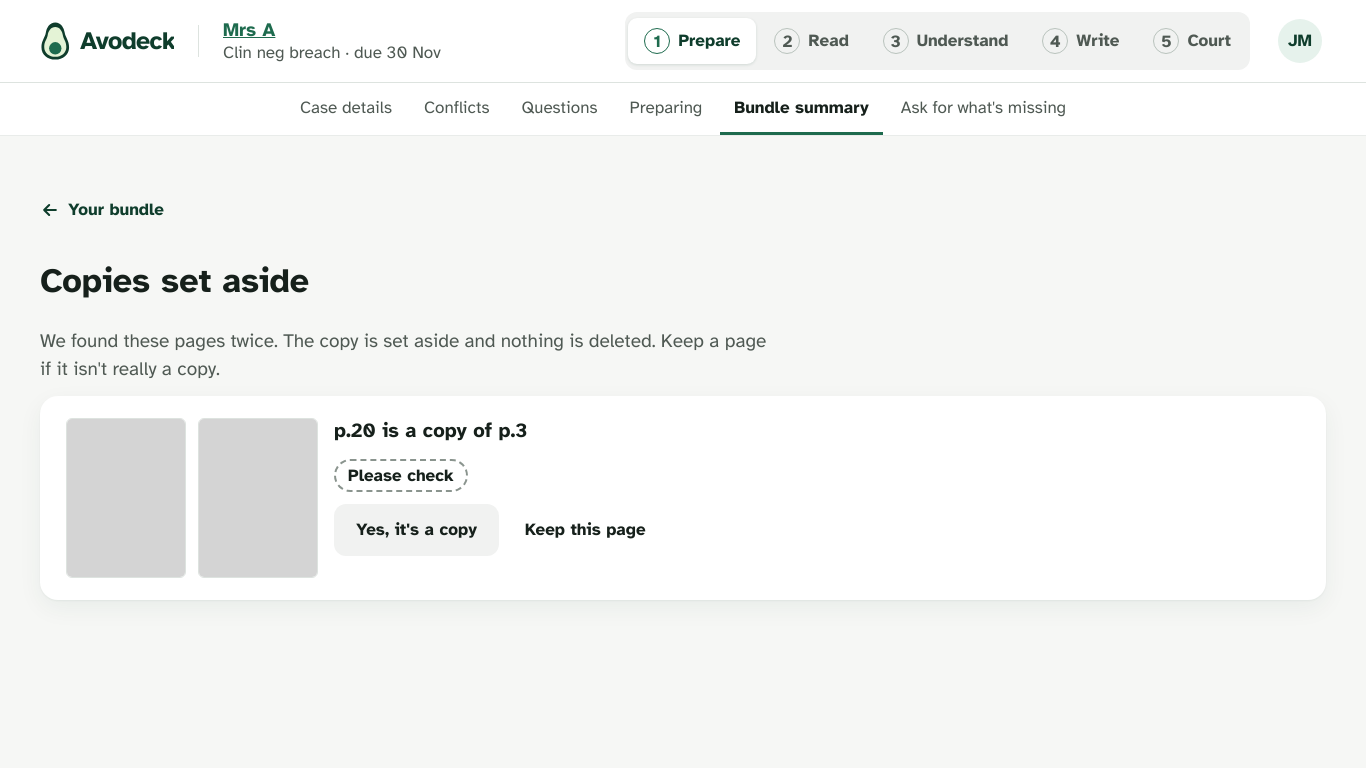
Test case: Copies under the launch packs › if someone else changed the page first, it says so and shows the latest
Click the button "Yes, it's a copy" at (416, 530), box [334, 504, 499, 556]
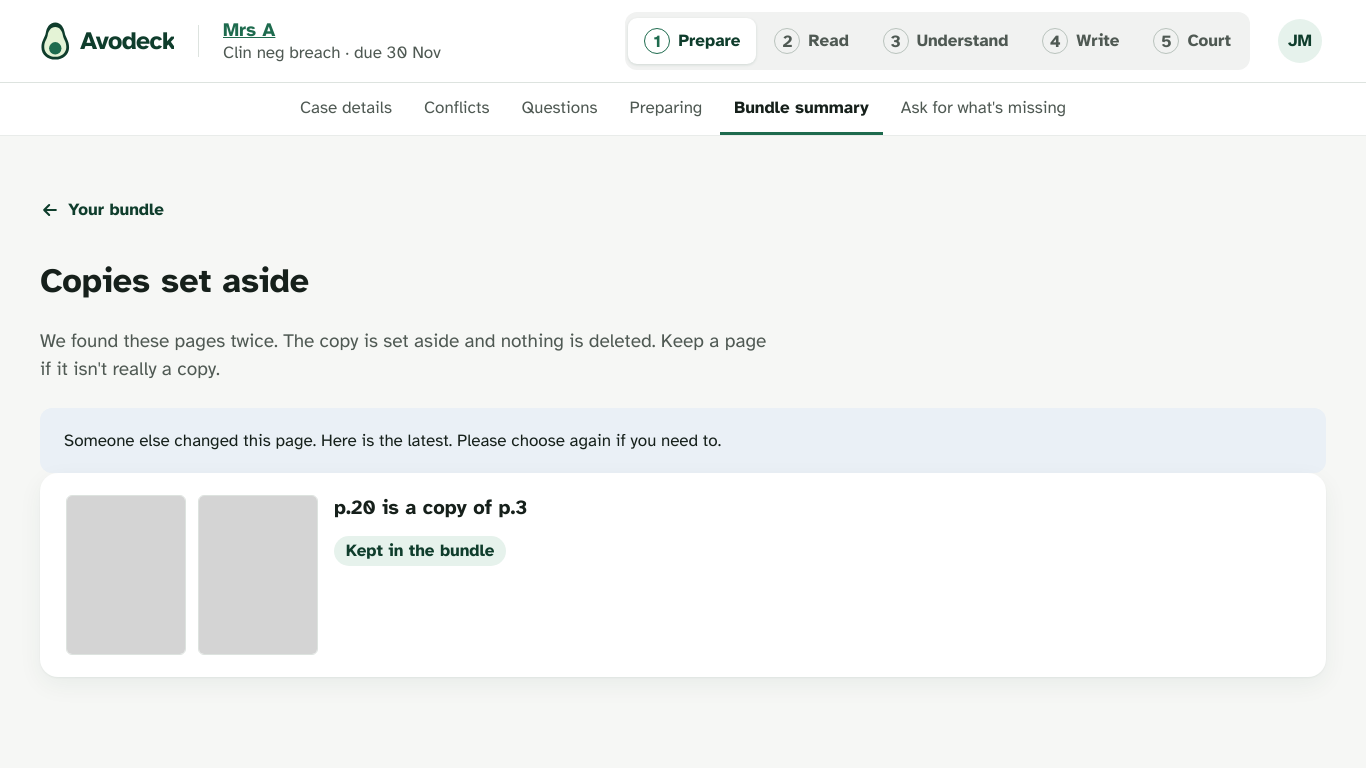
Check: the text "Someone else changed this page. Here is the latest. Please choose again if you need to." is shown, box [64, 430, 721, 450]
Check: the text "Kept in the bundle" is shown, box [334, 536, 506, 566]
